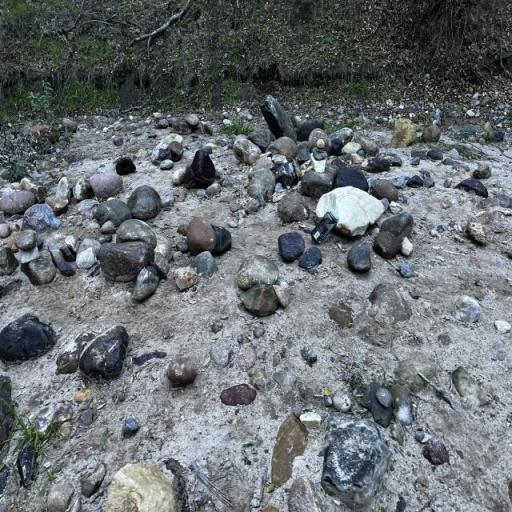bottle: (311, 208, 339, 244)
